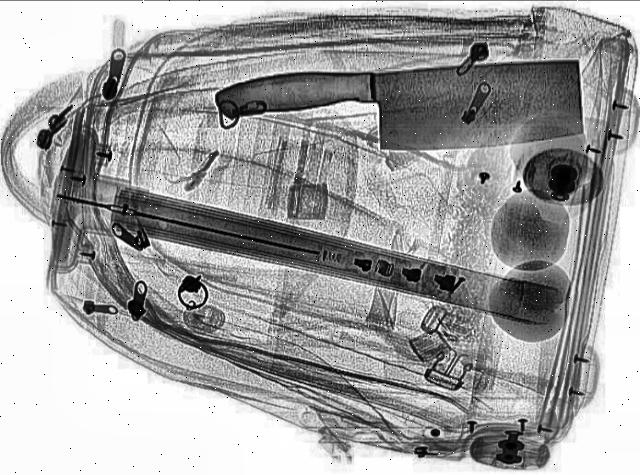Knife: (210, 46, 592, 172)
